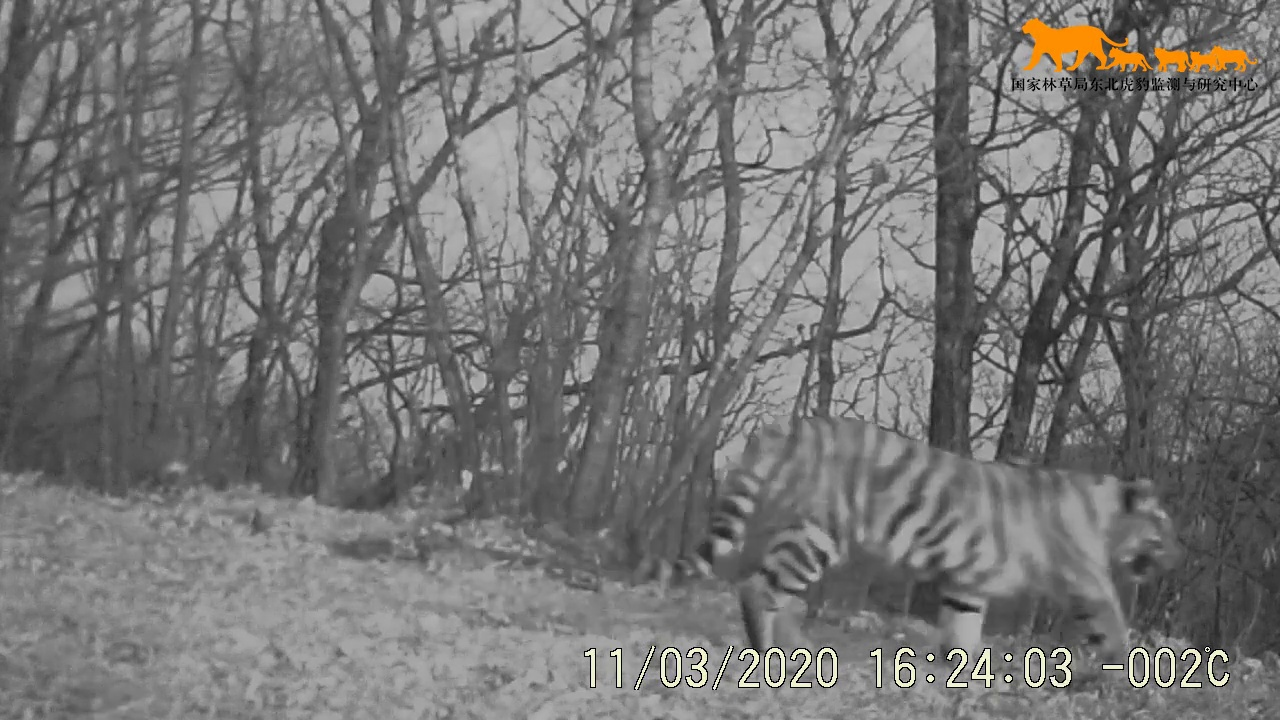Tiger: (632, 161, 1219, 651)
